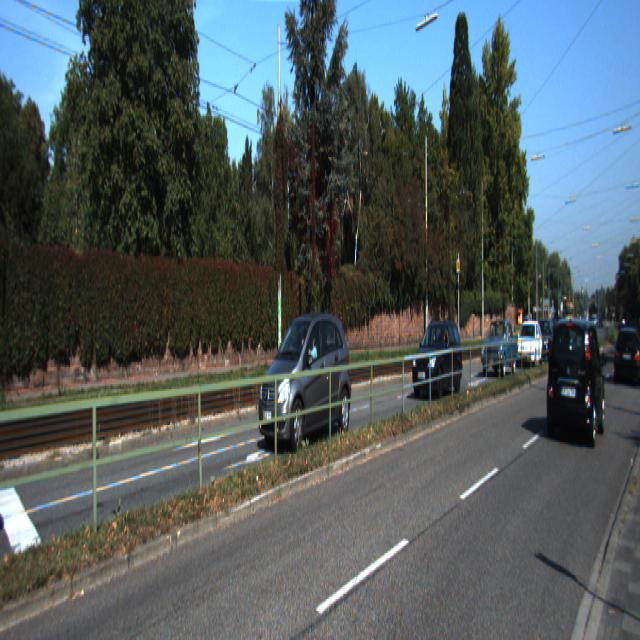Car: (258, 308, 354, 458), (546, 311, 607, 448), (412, 315, 465, 400), (481, 315, 519, 374), (610, 319, 640, 384), (516, 316, 544, 367), (532, 315, 554, 363)
